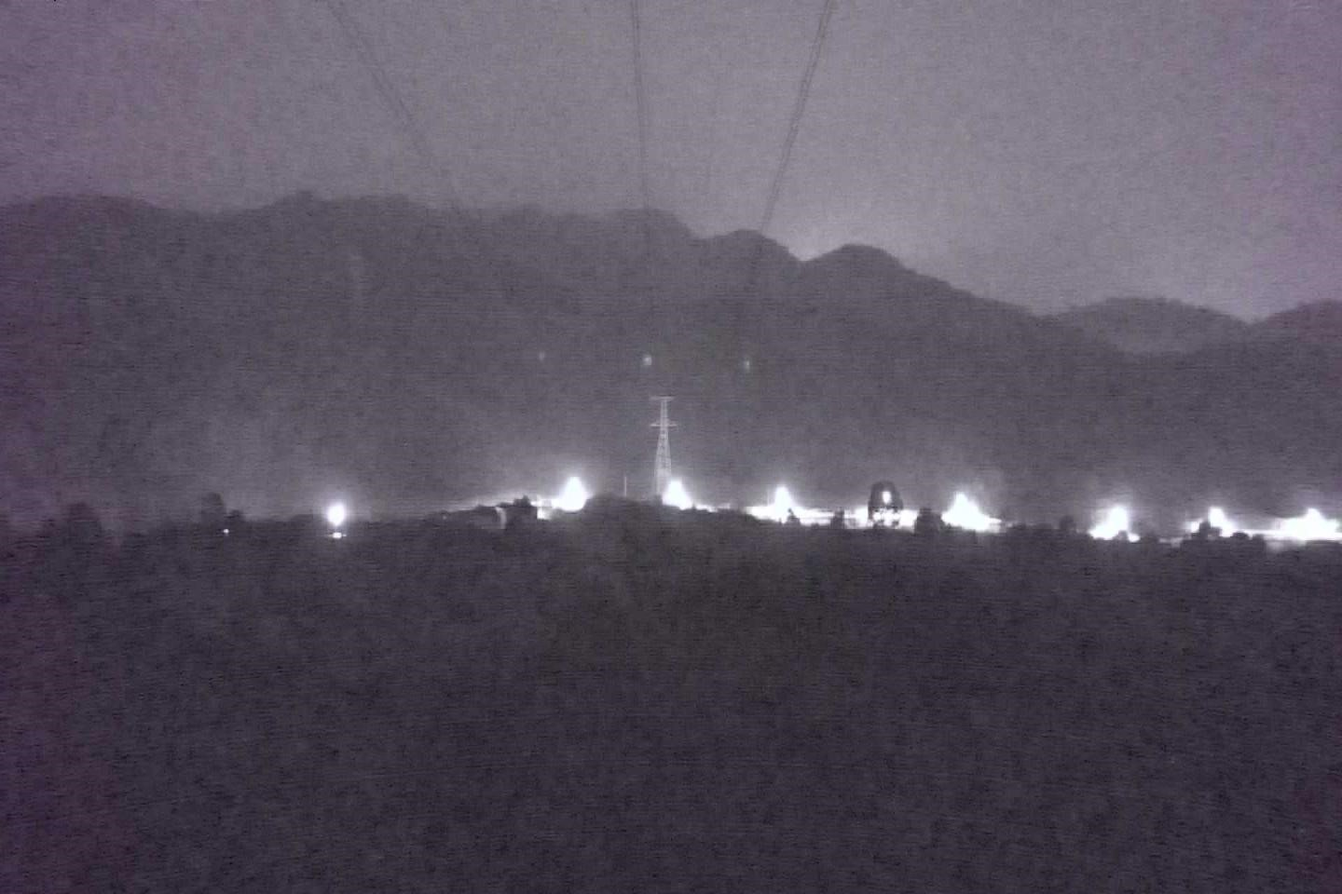过爆灯光: (746, 483, 834, 525), (940, 491, 1002, 534), (1270, 507, 1342, 540), (1087, 502, 1140, 542), (842, 506, 920, 533), (551, 476, 591, 511), (662, 479, 693, 510), (1208, 506, 1235, 537), (326, 502, 345, 524), (1187, 517, 1204, 533), (695, 503, 716, 512), (882, 491, 891, 503), (332, 532, 341, 538)
